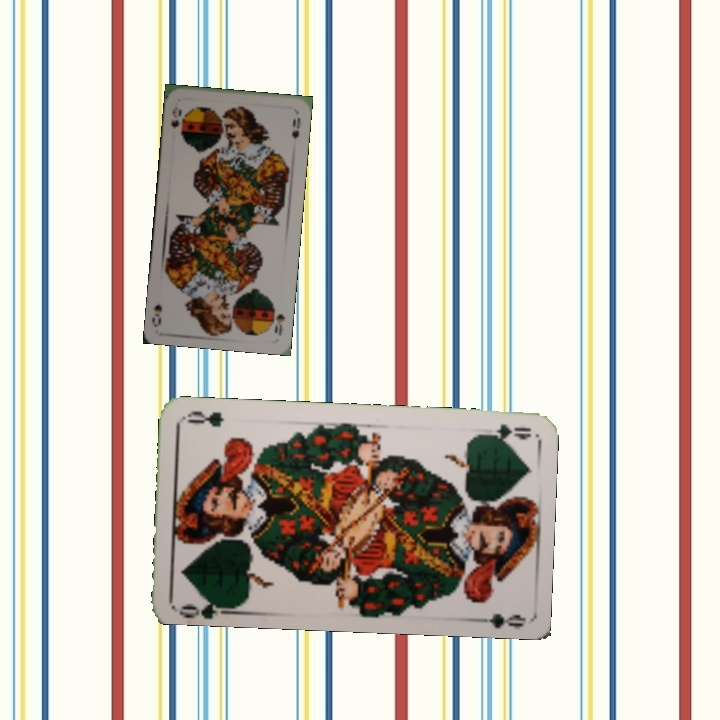GO: (175, 590, 235, 618), (473, 420, 532, 444)
SO: (167, 103, 184, 131), (271, 310, 288, 338)
